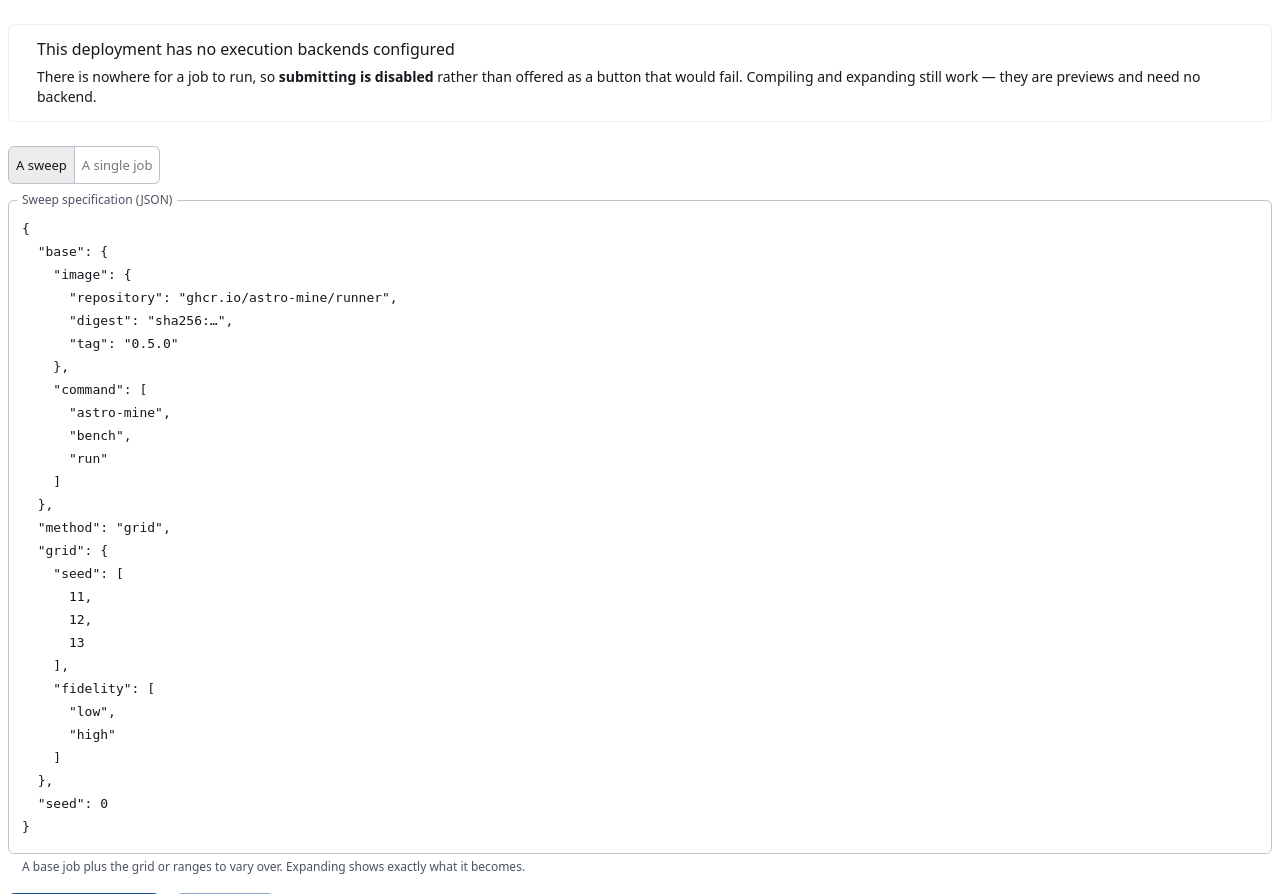
Test: submitting a job › is disabled with no backend, and says what to configure
Check: the text "This deployment has no execution backends configured" is shown, box [37, 38, 455, 60]
Click the button "A single job" at [117, 165], box [74, 146, 160, 184]
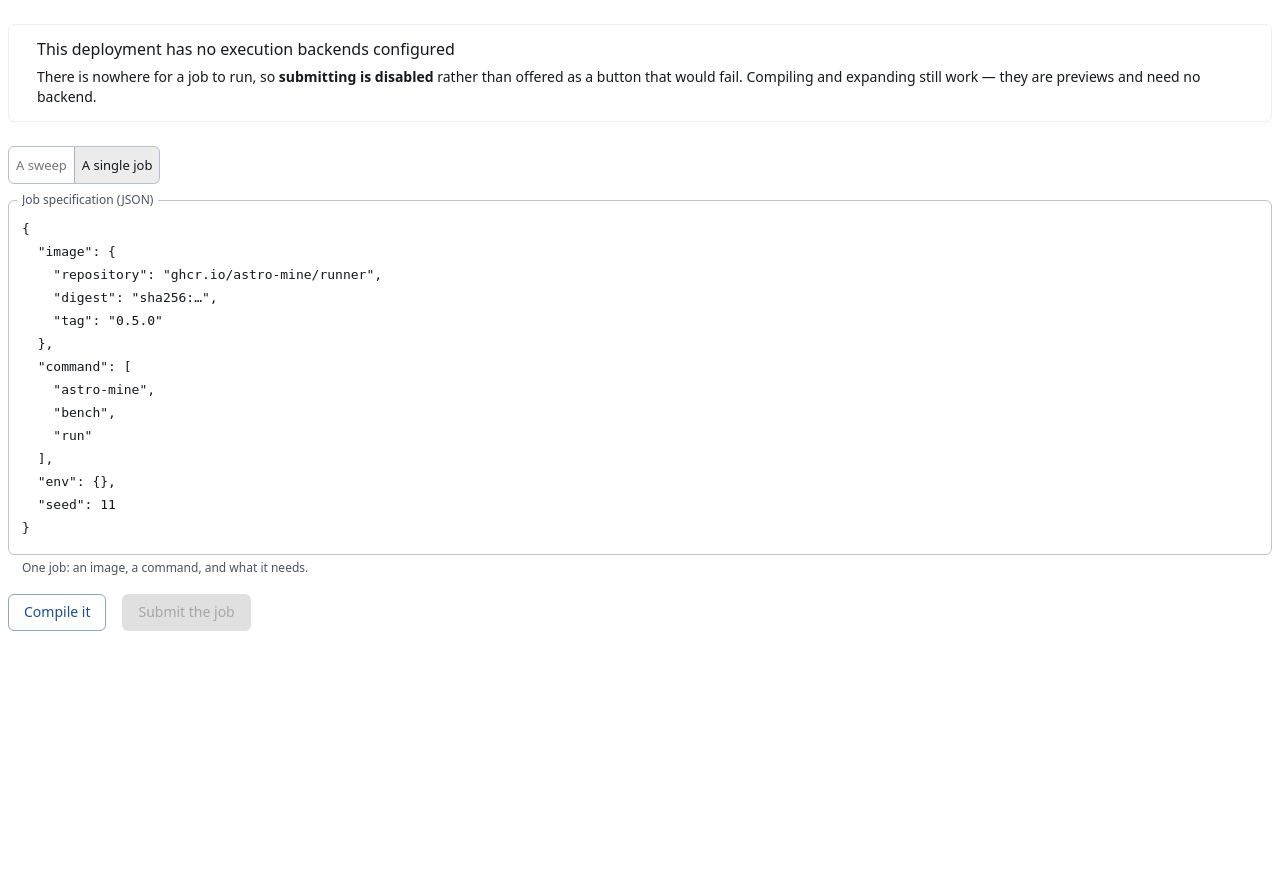
Check: the button "Submit the job" is disabled, box [122, 594, 251, 631]
